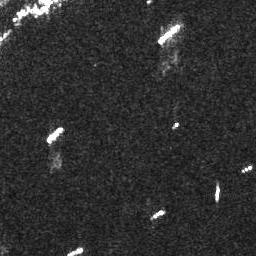ship: (156, 22, 182, 46), (46, 126, 66, 145), (150, 207, 166, 222), (62, 245, 82, 256), (213, 183, 221, 203), (239, 163, 252, 173)
